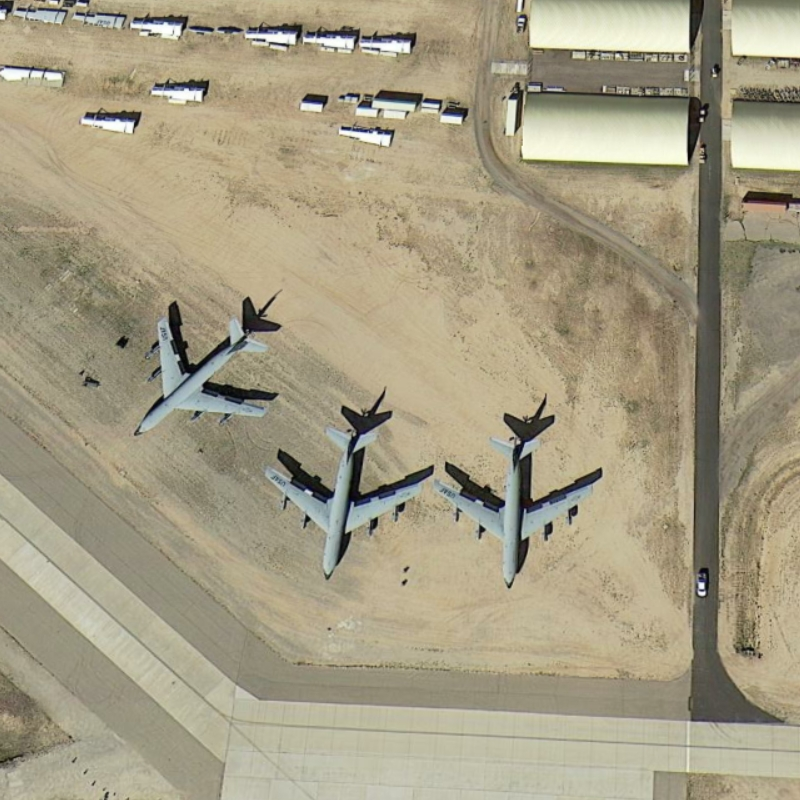A14: (426, 420, 604, 595), (257, 412, 424, 585), (128, 300, 282, 441)
